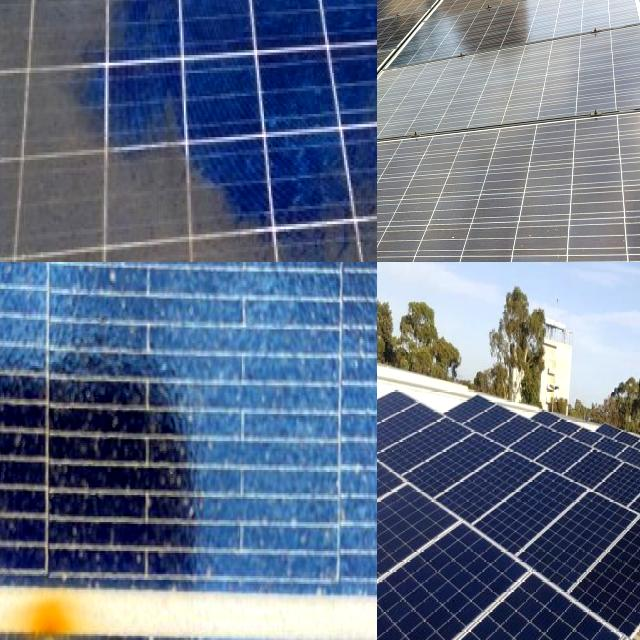crack: (377, 542, 624, 640), (377, 501, 540, 640), (522, 458, 638, 618), (556, 469, 640, 640)
dust: (0, 0, 135, 253), (128, 94, 238, 262), (443, 122, 548, 262), (164, 0, 360, 53), (571, 114, 640, 262), (0, 0, 146, 60), (257, 178, 359, 262), (0, 0, 178, 47), (199, 0, 377, 42), (377, 141, 418, 262), (377, 212, 417, 262)
shadow: (0, 584, 93, 640), (0, 278, 24, 332)
